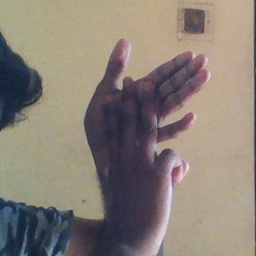M: (78, 37, 214, 219)
